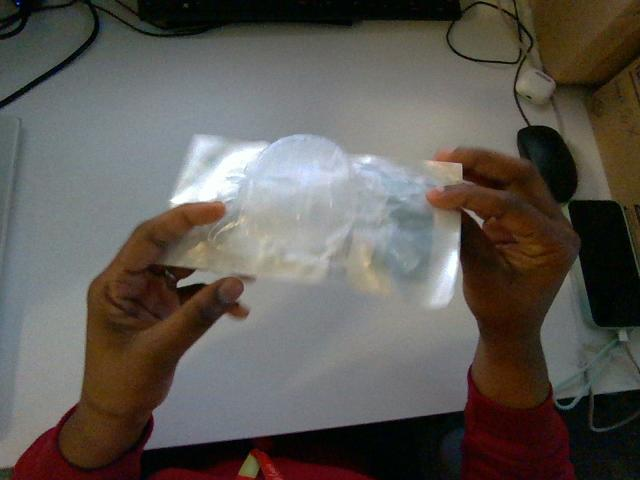gallipot: (163, 135, 461, 307)
